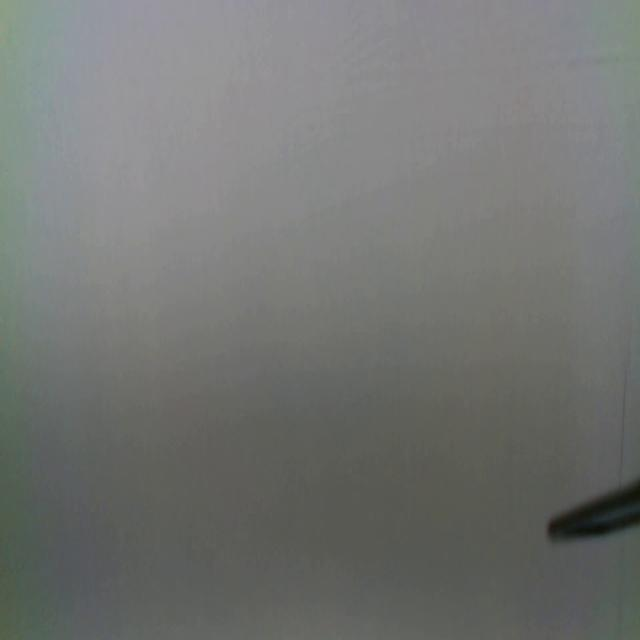crease: (617, 367, 629, 486)
